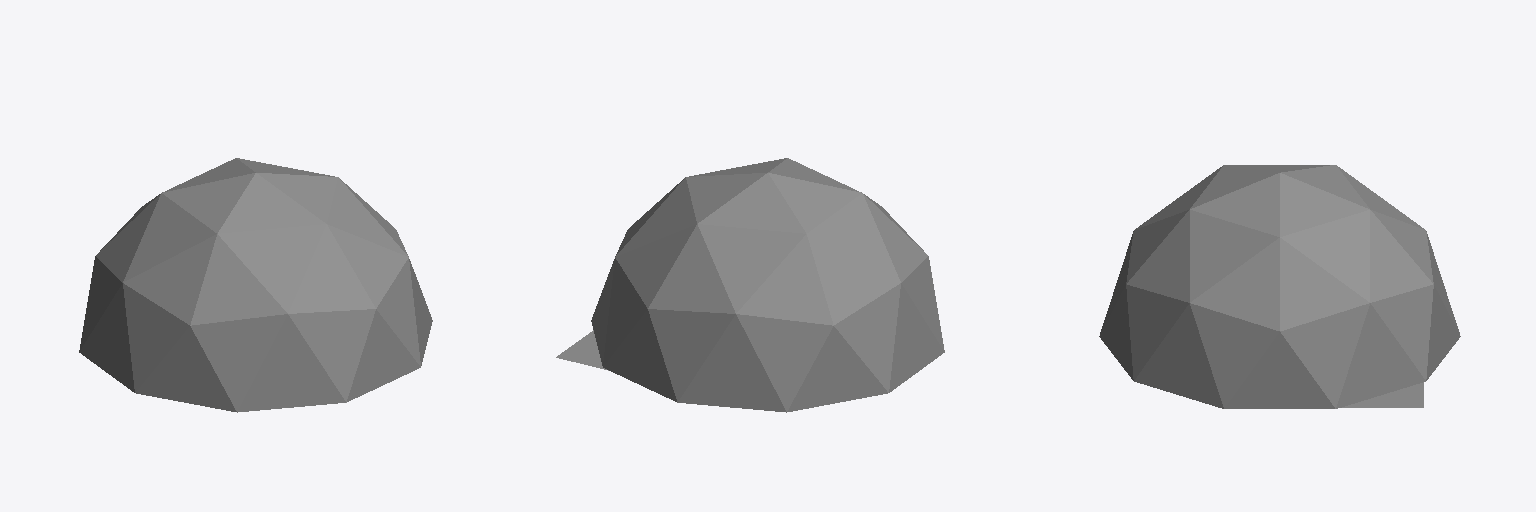
Rendered from cup.obj.
The picture shows the model from 3 angles: view 1: azimuth 30°, elevation 25°; view 2: azimuth 150°, elevation 25°; view 3: azimuth 270°, elevation 25°; orthographic projection.
Parts seen in each view (by area): view 1: EL_dome; view 2: EL_dome, Plane01; view 3: EL_dome, Plane01.
Part boxes in pixels (bbox=[...]): EL_dome: bbox=[79, 158, 432, 412]; EL_dome: bbox=[591, 158, 944, 412]; Plane01: bbox=[556, 330, 608, 370]; EL_dome: bbox=[1099, 165, 1460, 408]; Plane01: bbox=[1342, 382, 1423, 407].
Bounding box in the file's own units: 3119 × 1668 × 3280.